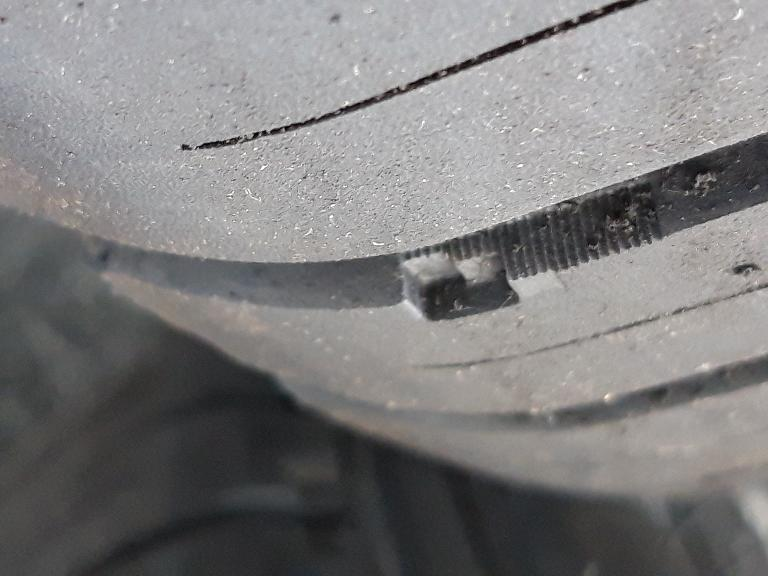temoin:50: (390, 210, 576, 333)
